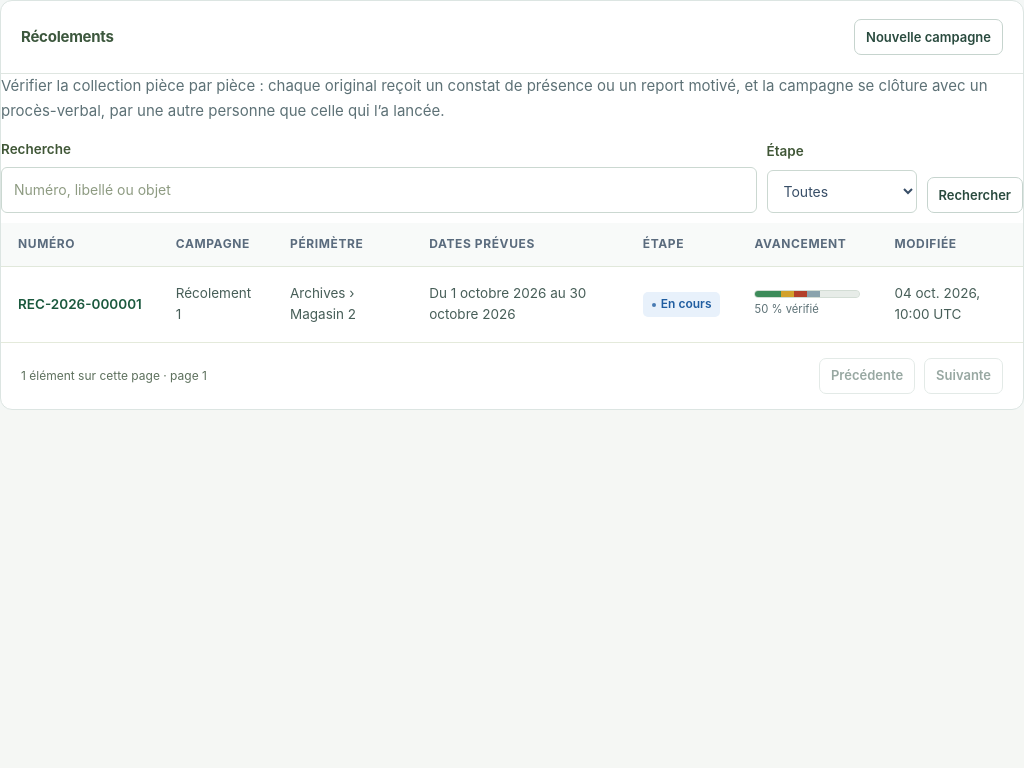
Scenario: la clôture refusée par le serveur (autre personne exigée) s’affiche dans la fenêtre
The width and height of the screenshot is (1024, 768).
Click the button "REC-2026-000001": coordinates (80, 304) [18,294,142,315]
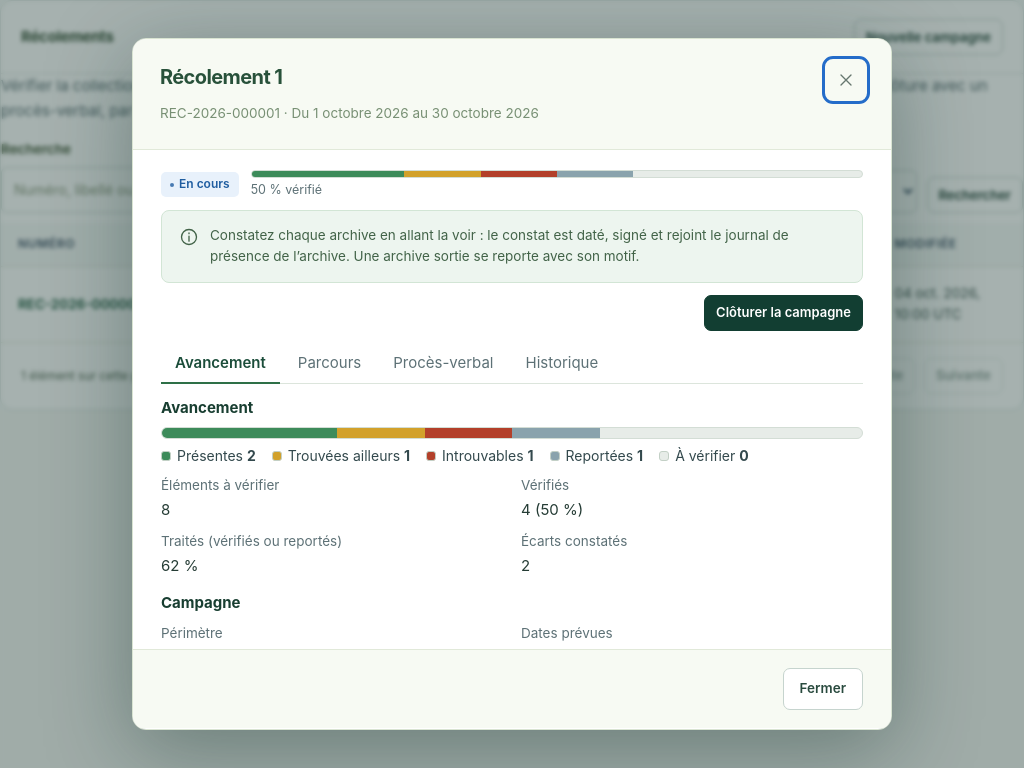
Click the button "Clôturer la campagne": coordinates (784, 313) [704,295,863,331]
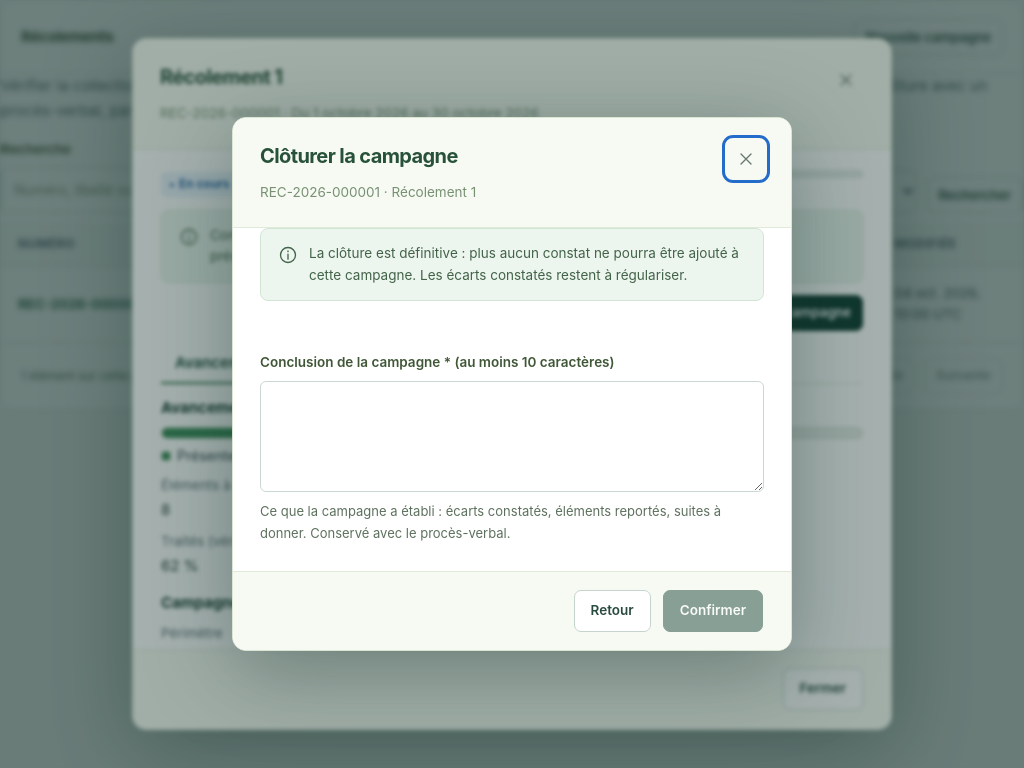
In the text box labelled "Conclusion de la campagne": coordinates (512, 437) [260,381,764,492], type "Campagne terminée, deux écarts à régulariser"
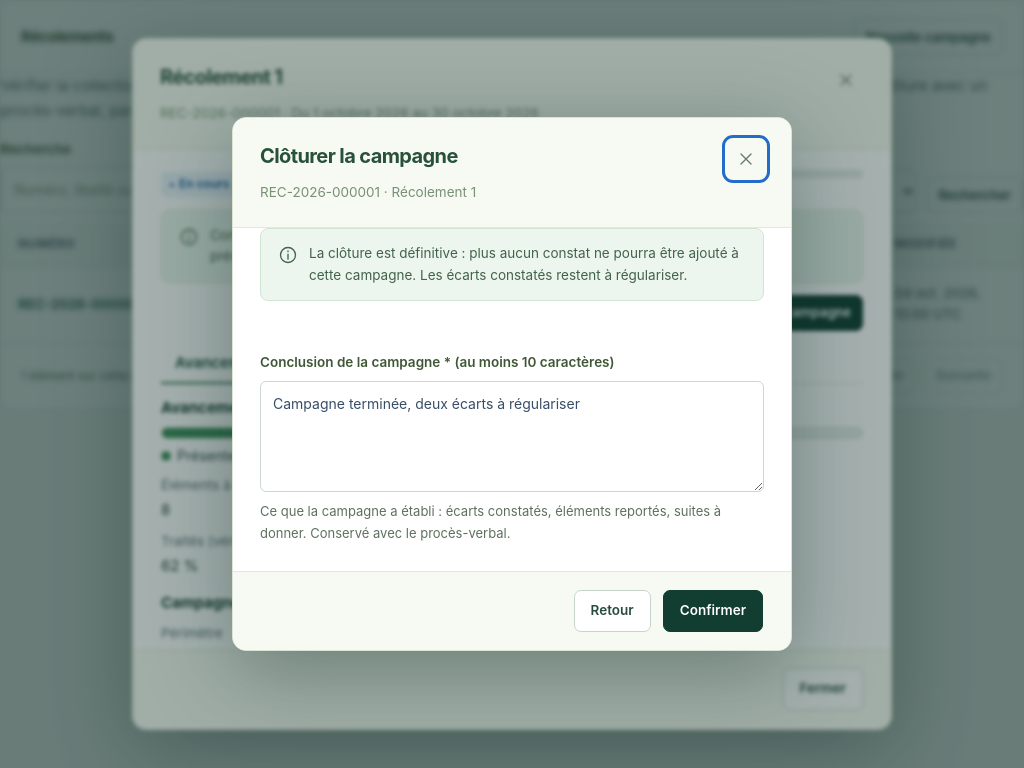
Click the button "Confirmer": coordinates (713, 611) [663,590,763,632]
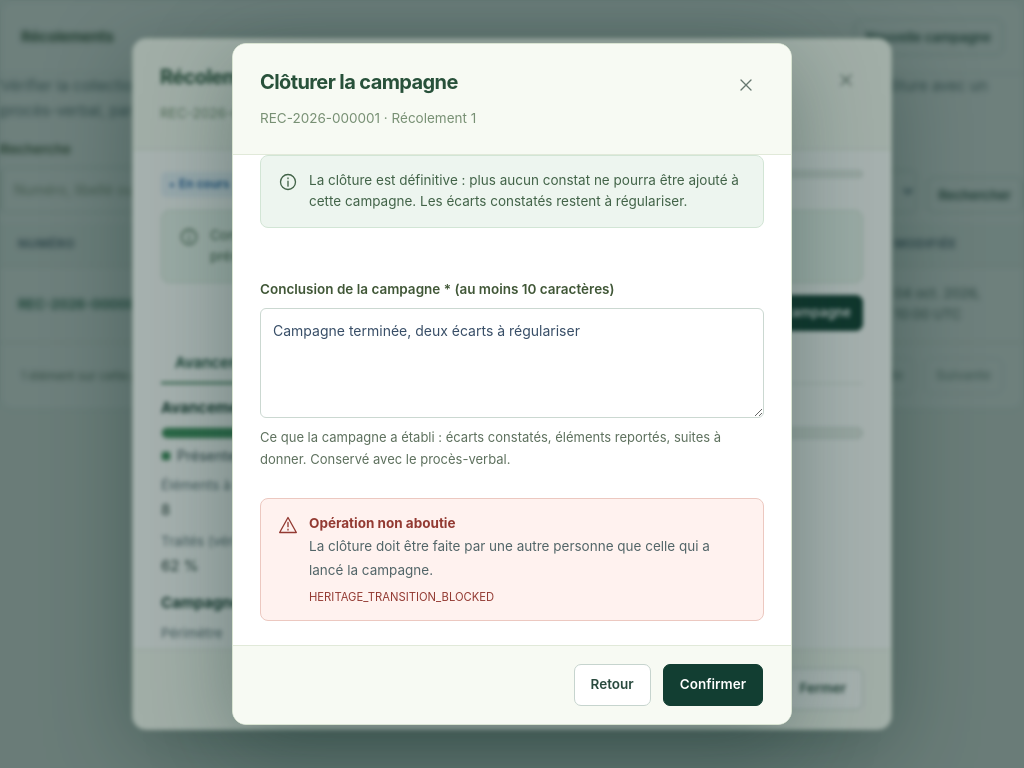
Result: the text "autre personne que celle qui a lancé" is shown at [309,538,710,578]
